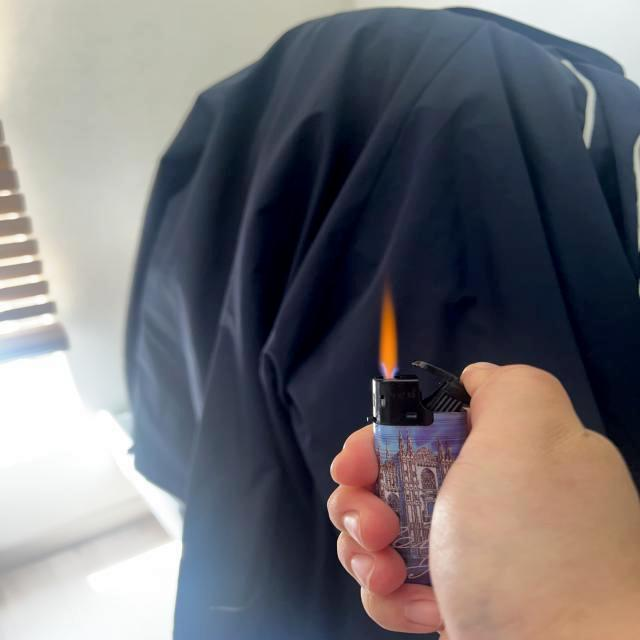fire: (378, 290, 402, 378)
